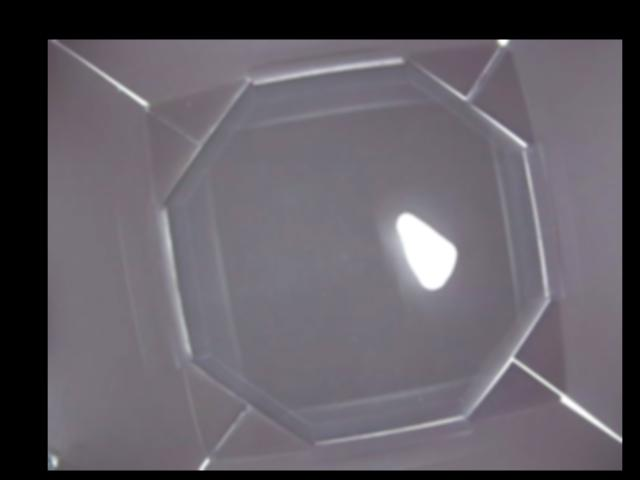Pebble: (396, 211, 459, 288)
